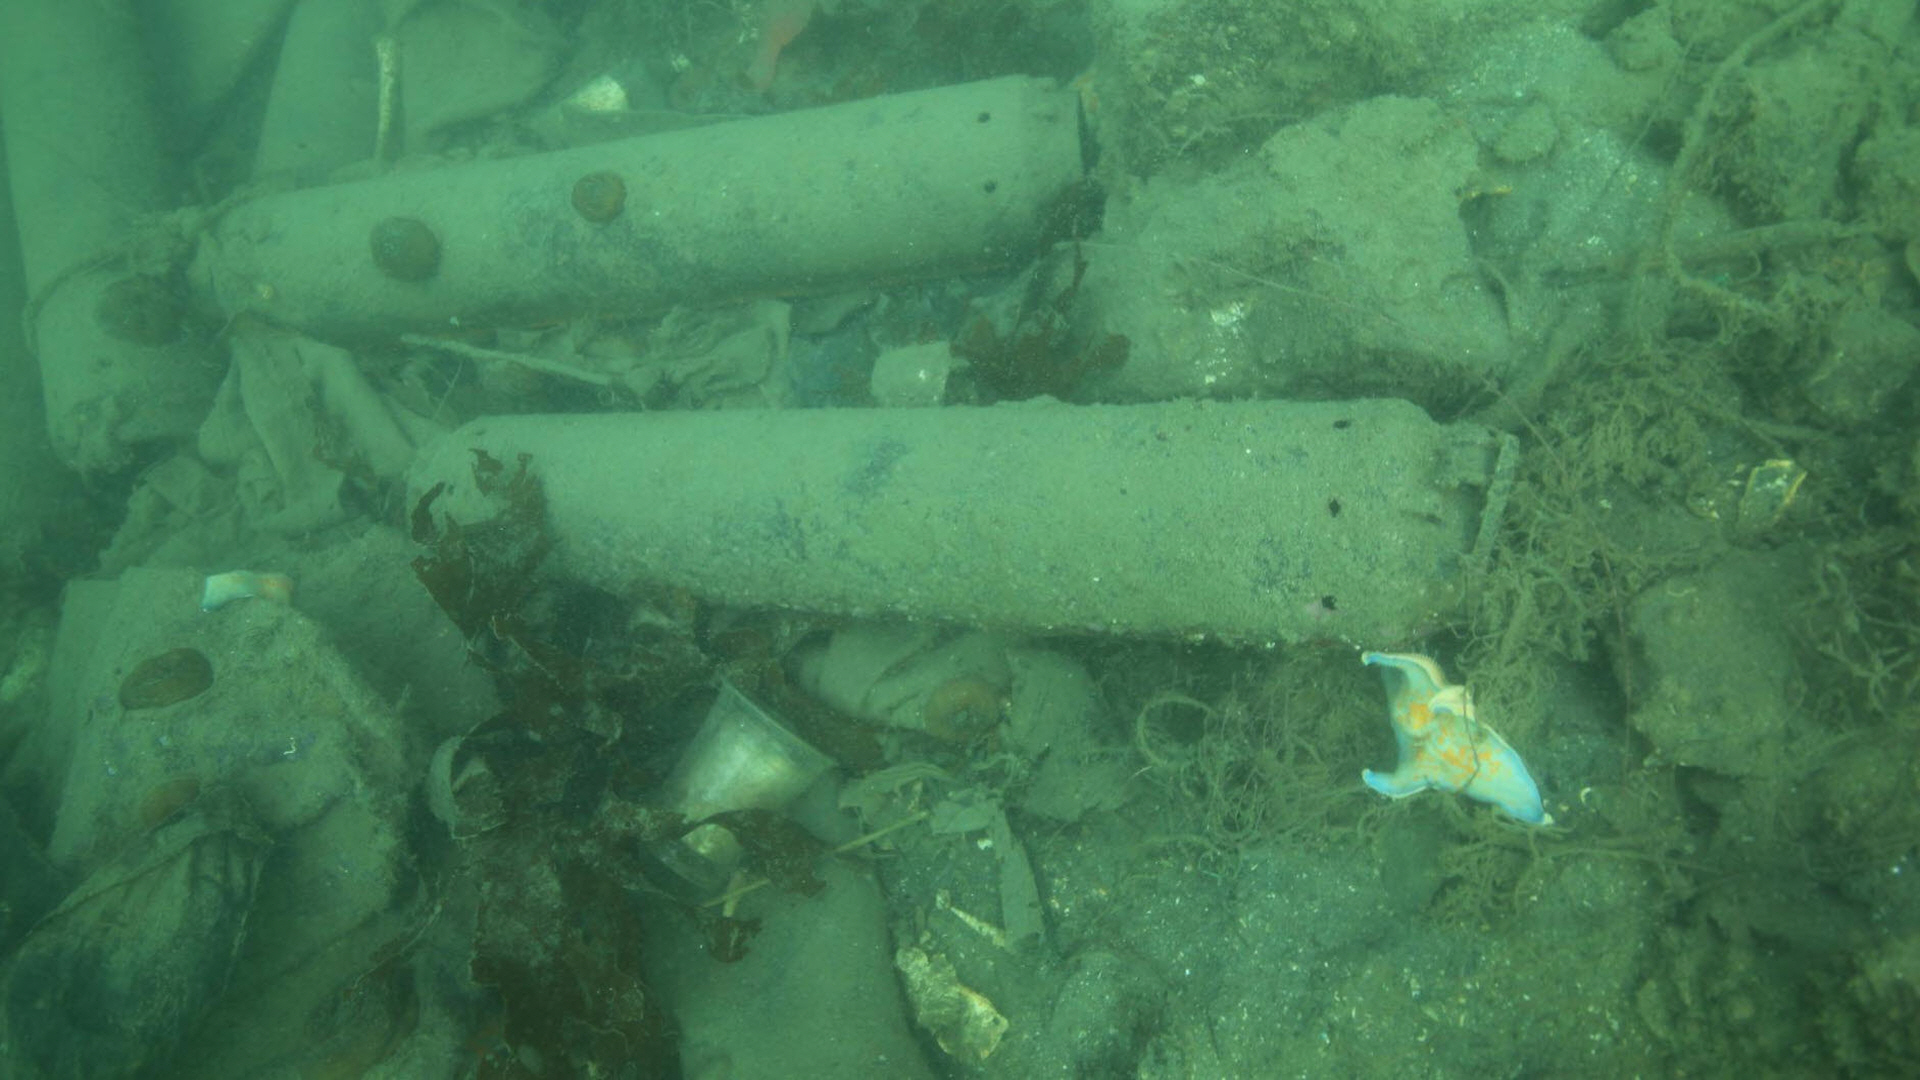eel fish trap: (389, 392, 1490, 644), (200, 69, 1091, 326), (0, 0, 206, 498)
